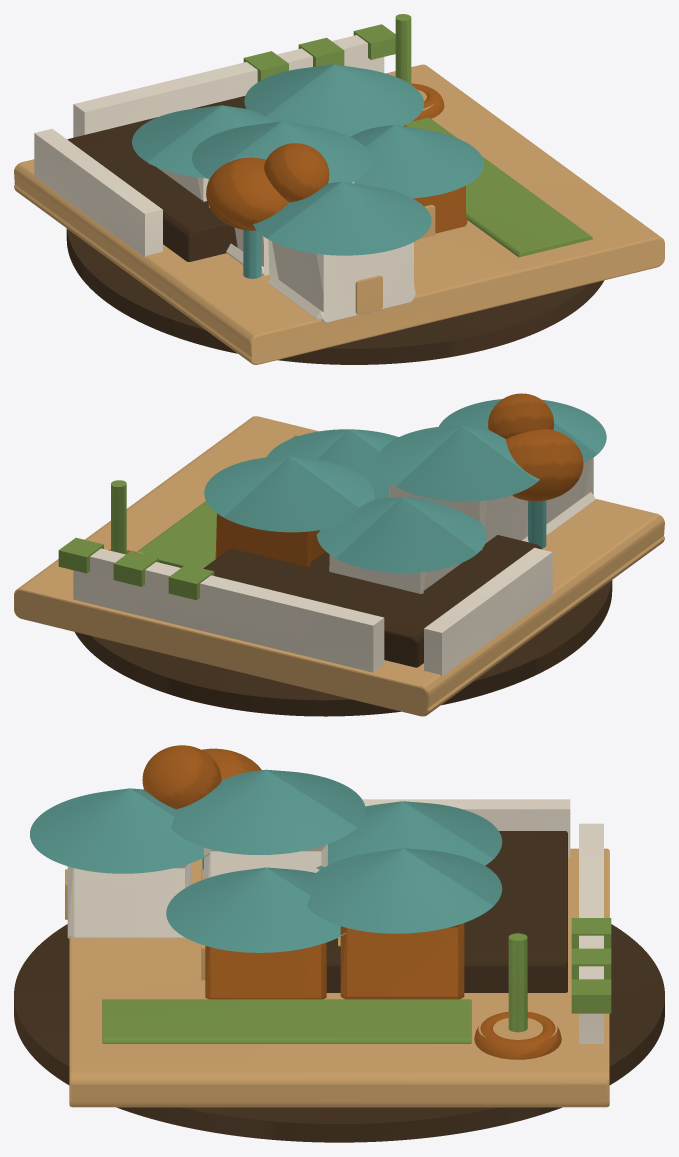
File: 0590_考古图鉴_庞贝餐厅遗址.glb
3 renders of one model, top to bottom at view 1: azimuth 30°, elevation 25°; view 2: azimuth 150°, elevation 25°; view 3: azimuth 270°, elevation 25°, orthographic. The views are drawn at different scales.
Visible parts, largest first — view 1: card_0590; view 2: card_0590; view 3: card_0590.
Part boxes in pixels (left/top/right/bottom): card_0590: left=14, top=14, right=664, bottom=364; card_0590: left=14, top=393, right=664, bottom=716; card_0590: left=14, top=745, right=664, bottom=1142.
Bounding box in the file's own units: 2.74 × 1 × 2.92.
